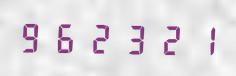nine: (17, 18, 49, 54)
one: (183, 21, 215, 57)
six: (50, 18, 82, 55)
three: (117, 19, 149, 56)
two: (150, 20, 182, 57), (84, 19, 116, 55)
